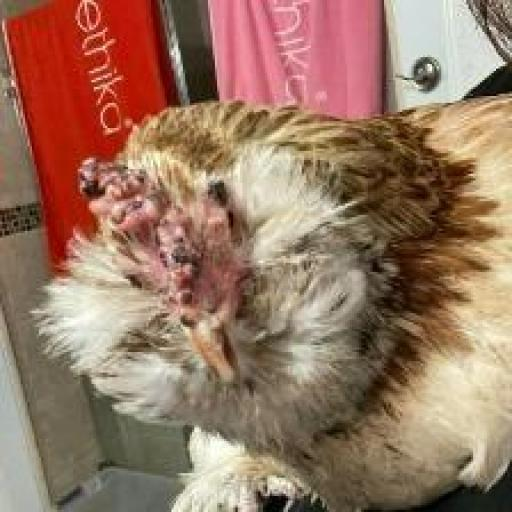disease: (79, 166, 266, 312)
